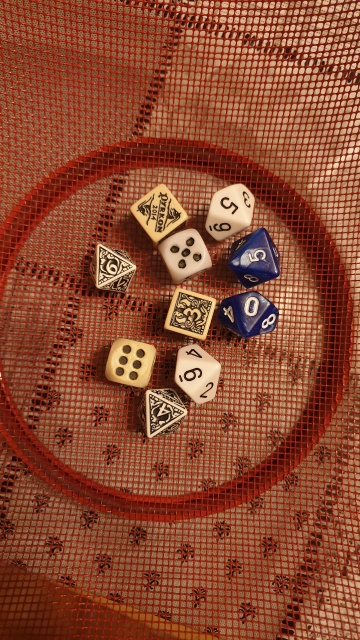d10-10: (214, 288, 287, 341)
d10-5: (197, 177, 255, 246), (230, 229, 284, 285)
d10-6: (165, 340, 230, 408)
d6-5: (157, 225, 216, 279)
d6-6: (104, 334, 156, 390)
d6p-1: (124, 180, 191, 243)
d6p-3: (162, 288, 218, 342)
d8p-4: (135, 382, 188, 444)
d8p-6: (80, 239, 138, 299)
